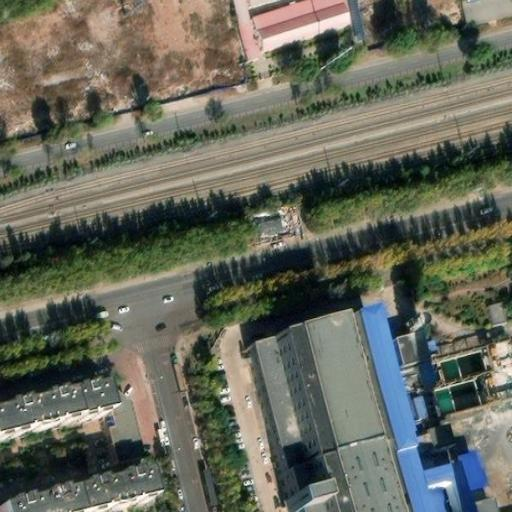building: (293, 314, 386, 451), (256, 329, 329, 485), (357, 306, 423, 450), (323, 435, 405, 512), (390, 444, 455, 512), (0, 391, 73, 443), (69, 467, 149, 512), (450, 454, 489, 512), (396, 311, 438, 363), (0, 487, 75, 512), (64, 384, 105, 425), (254, 211, 287, 238), (302, 478, 333, 502), (484, 297, 507, 326), (411, 392, 434, 420), (442, 483, 462, 512), (474, 497, 498, 512)
